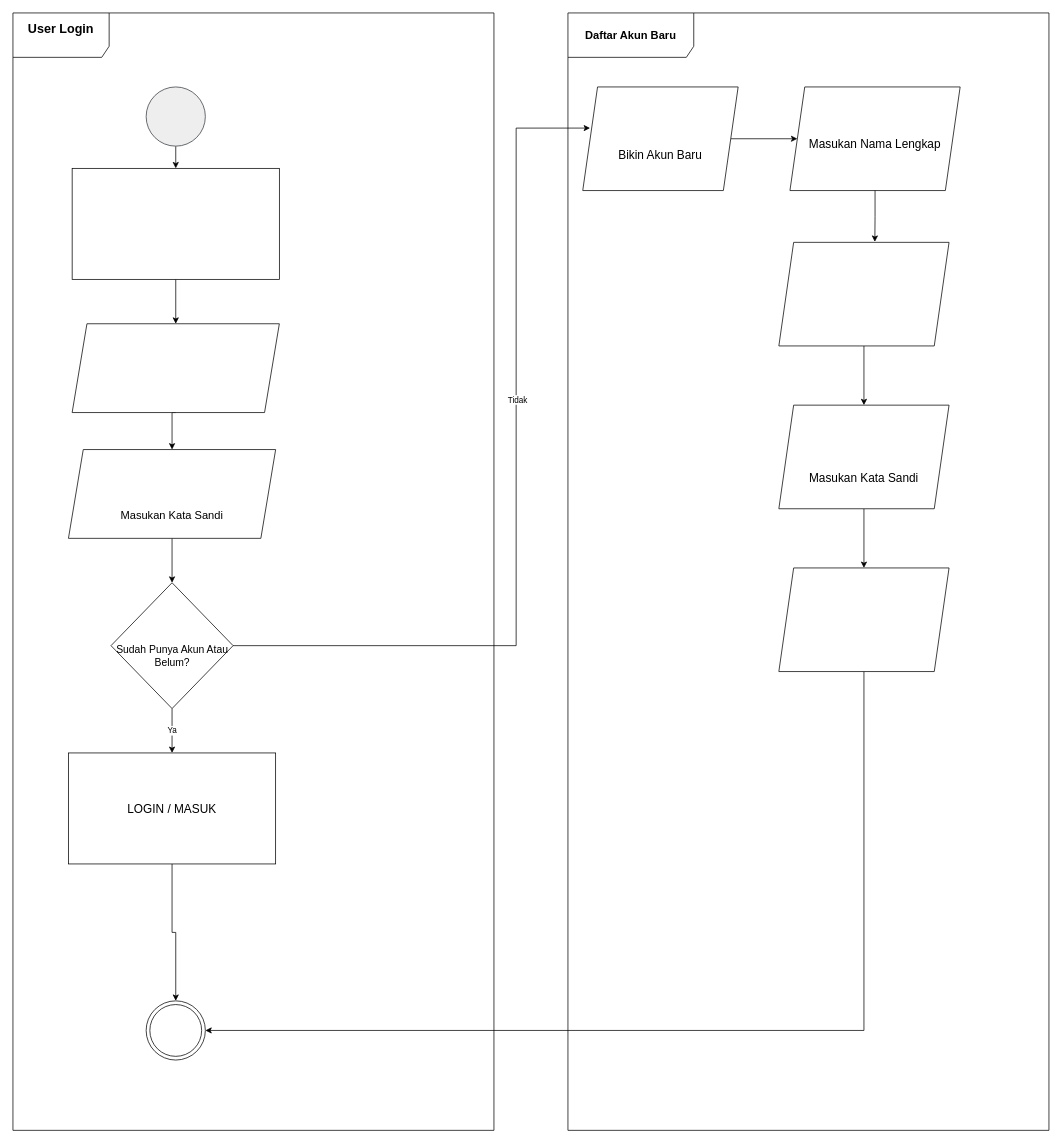
Image size: 1062x1143. Some labels were removed from this diagram. Each missing label, with the centre of its shape:
"Konfirmasi Kata Sandi" goes at [863,619].
"Masukan Domain E-Mail" goes at [863,294].
"Masukan Email / Username" goes at [175,368].
"User masuk Ke halaman Login" goes at [175,223].
